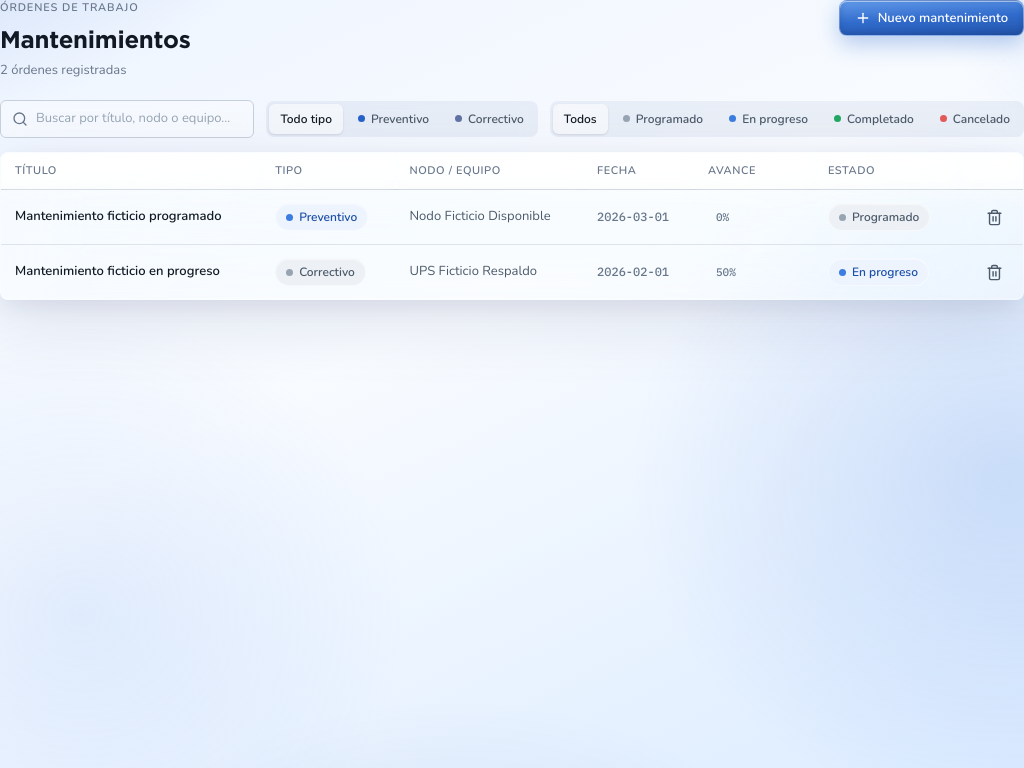
Maintenances › filtra por tipo (Preventivo / Correctivo)
Expected: the text "Mantenimiento ficticio programado" is shown, [1, 190, 261, 244]
Click the button "Preventivo": (394, 119) [347, 104, 440, 134]
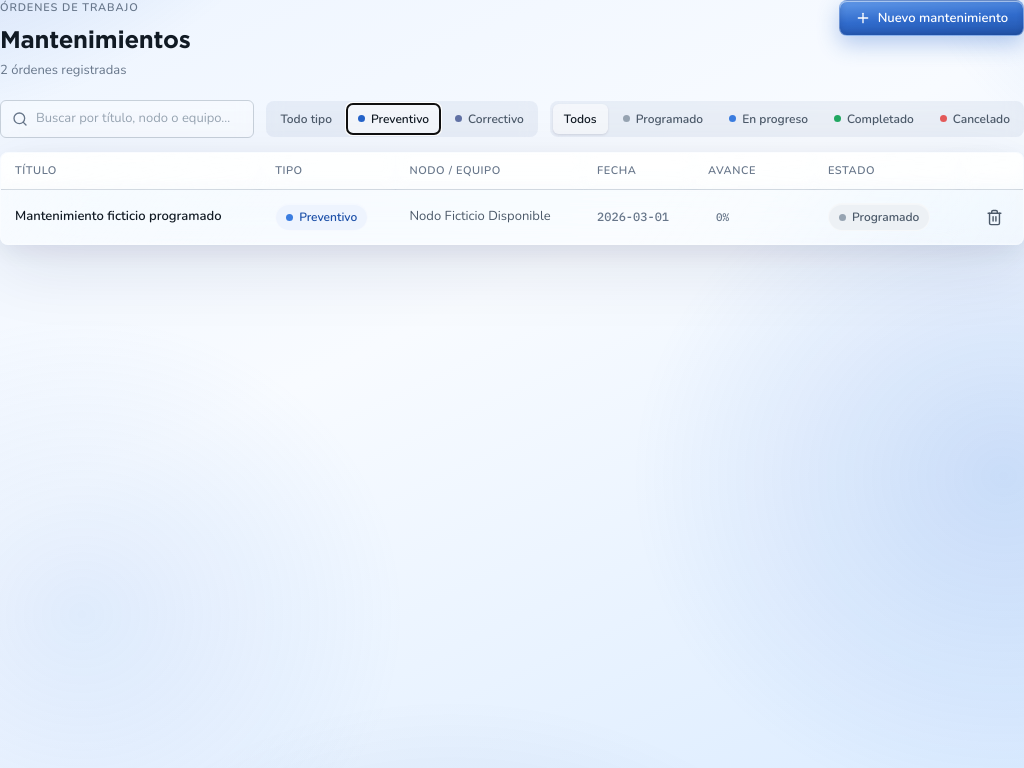
Expected: the text "Mantenimiento ficticio programado" is shown, [1, 190, 261, 244]
Expected: the text "Mantenimiento ficticio en progreso" is gone
